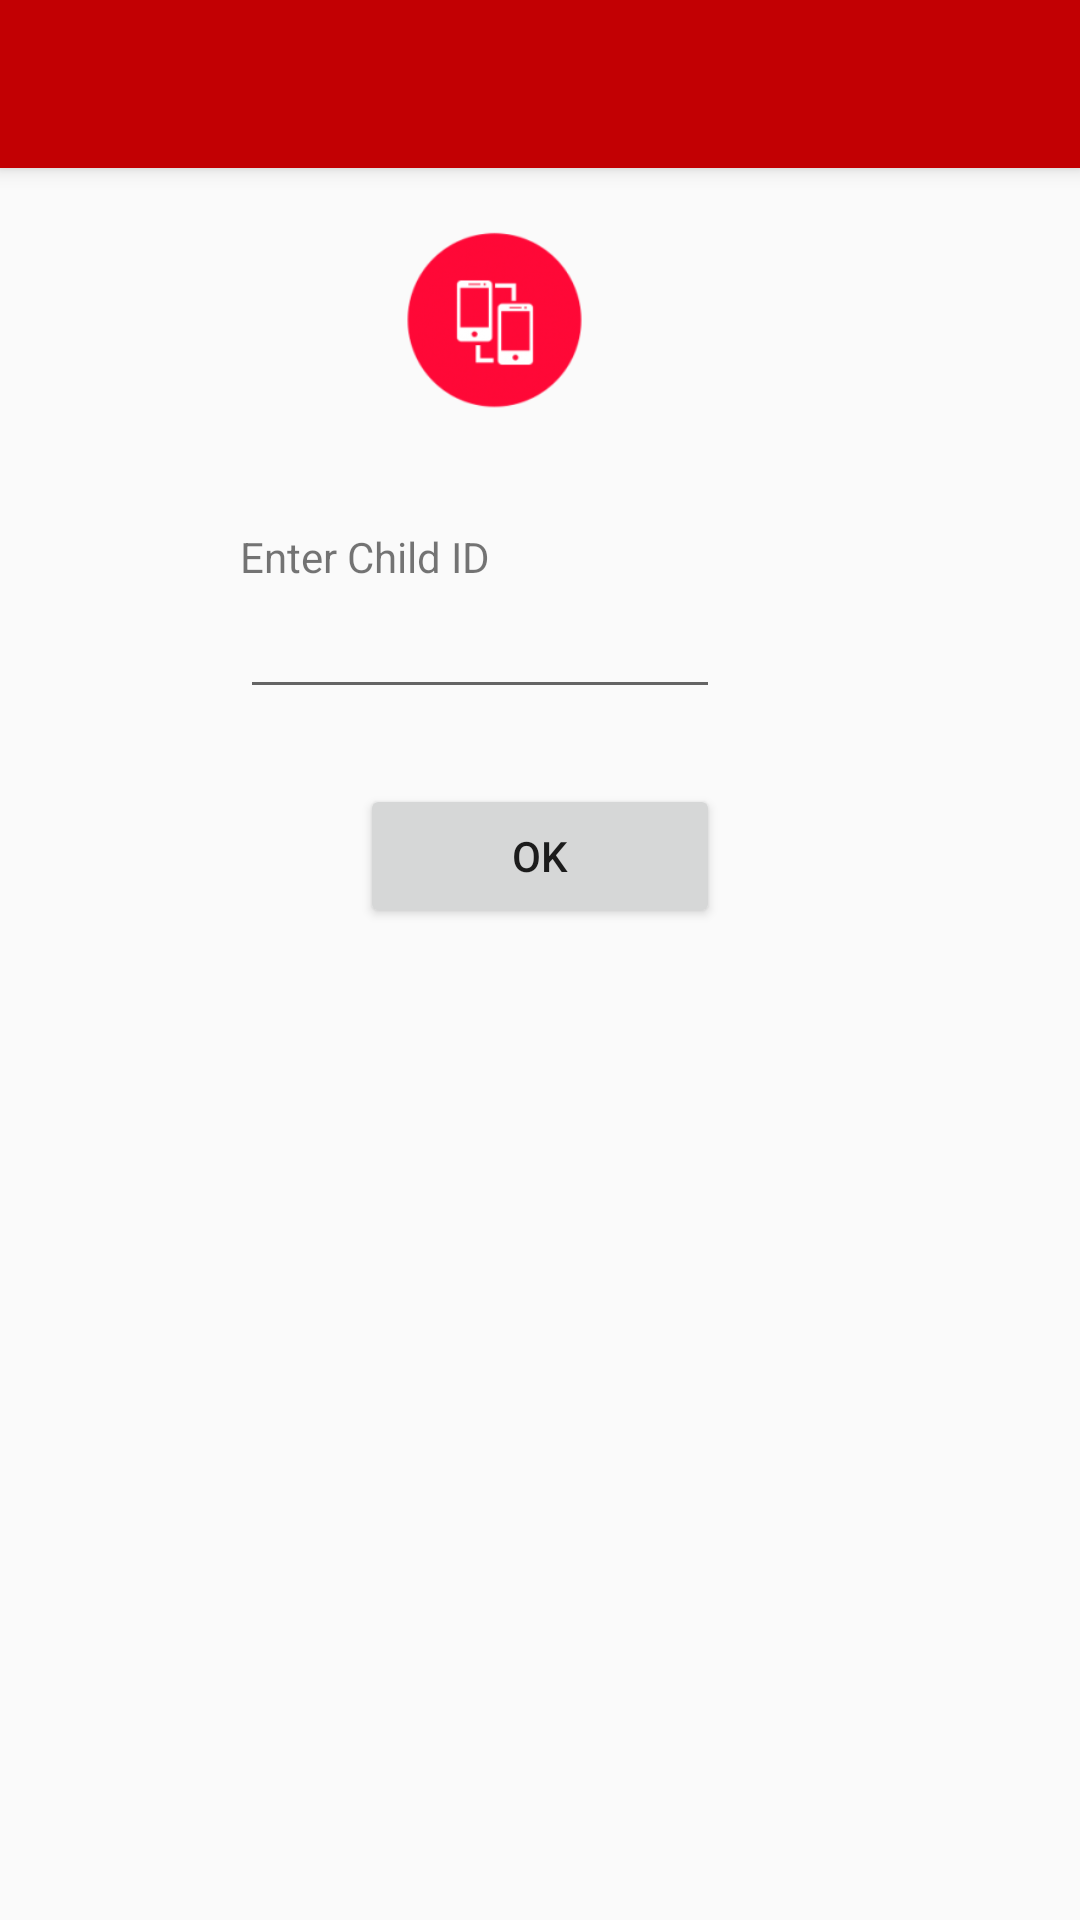

Locate icon controls on the screen. Image size 1080px x 1920px, boxes as box=[x1, y1, x2, y2].
sync: box=[407, 232, 582, 408]
